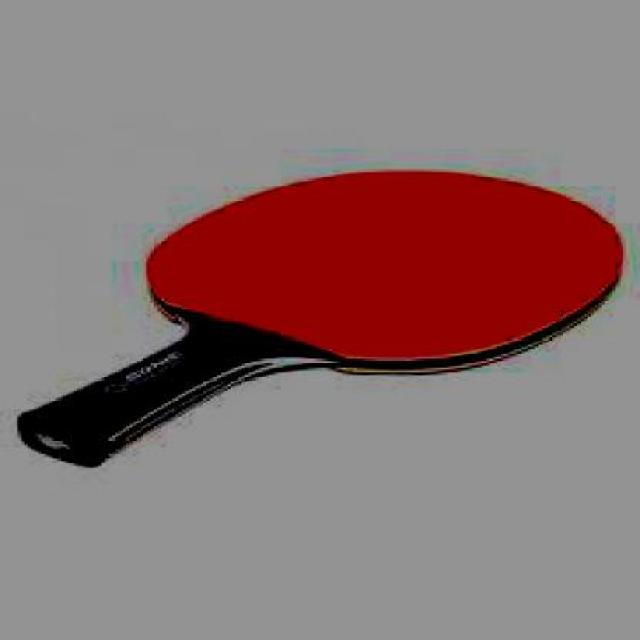table_tennis_racket: (132, 168, 632, 380)
